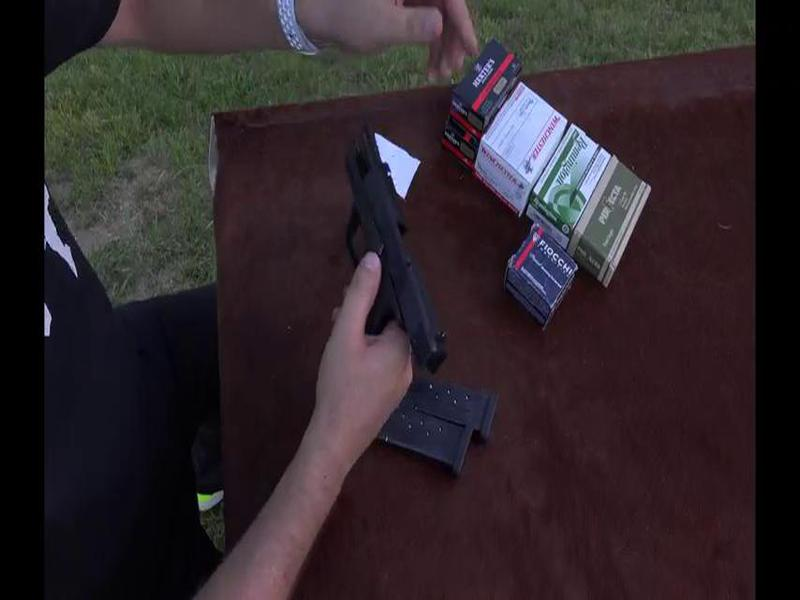Pistola: (320, 124, 457, 374)
